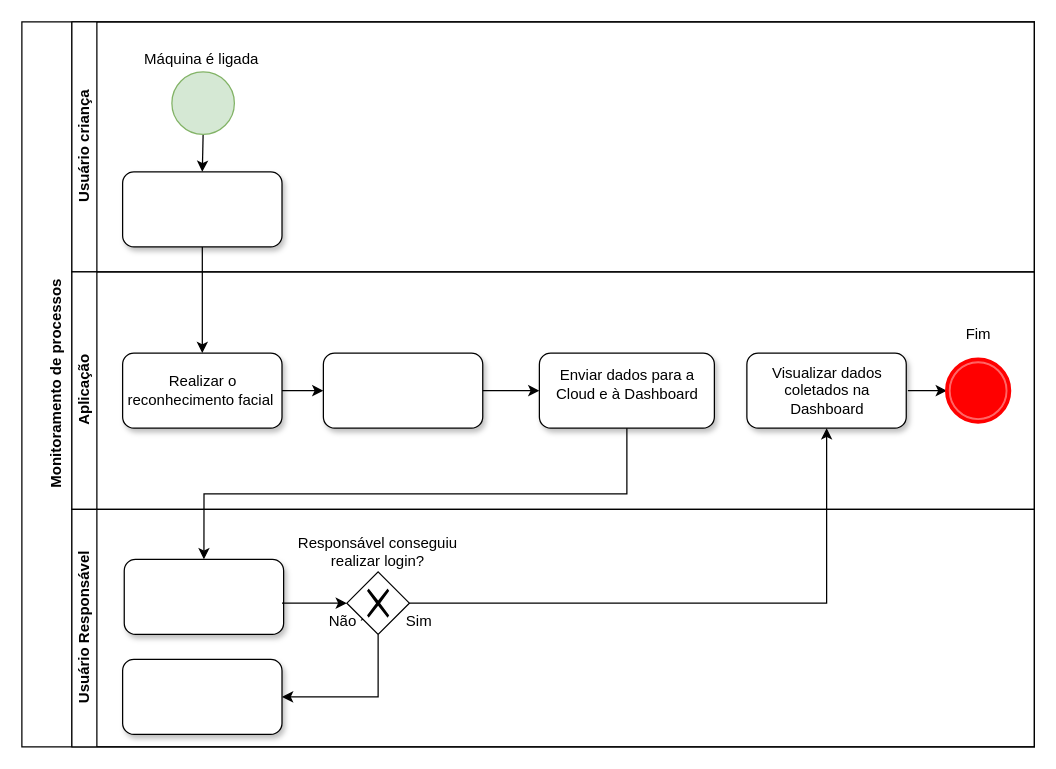
Image size: 1056x769. Some labels were removed from this diagram. Each missing label, with the centre of its shape:
"Entrar em contato com o HelpDesk" goes at (203,698).
"Inicializar coleta de dados" goes at (403,392).
"Realizar login na Dashboard" goes at (204,598).
"Realizar login no PC" goes at (203,211).
